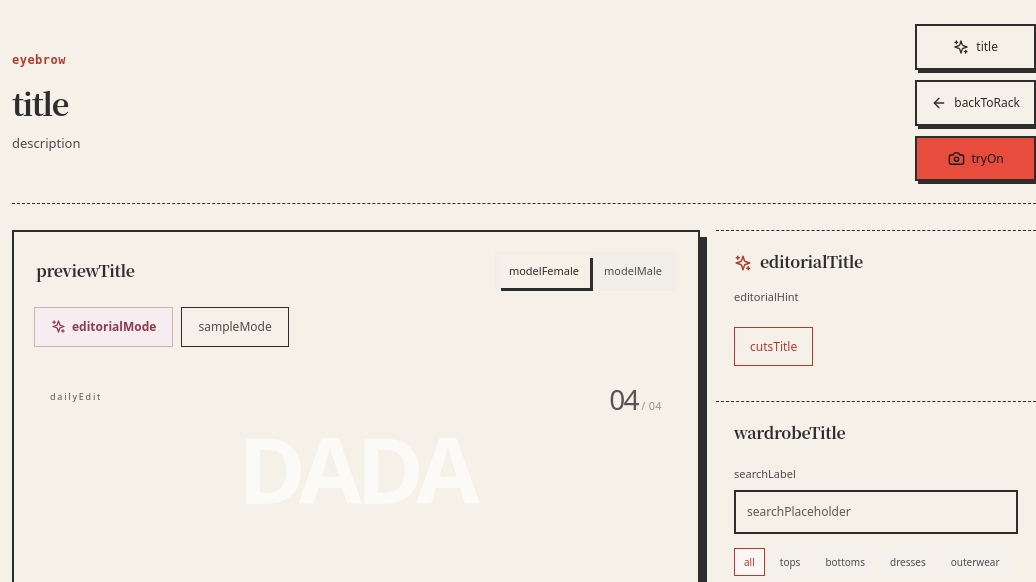
3D avatar workspace › opens the high-detail complete outfit and keeps garment controls in the explicit sample mode
The width and height of the screenshot is (1036, 582).
Click the button "sampleMode" at (235, 326), box [181,306,289,346]
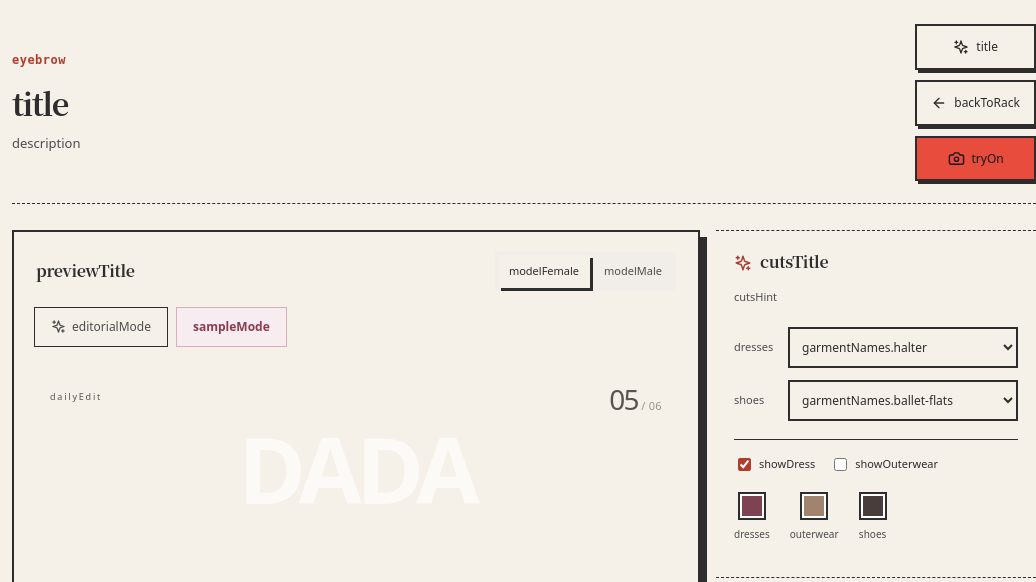
Check: the dropdown named "sampleCut" is shown, box [788,327,1018,368]
